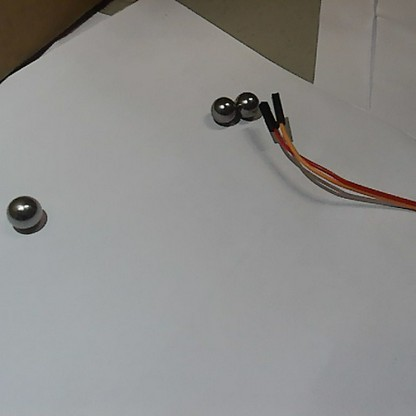ironball: (3, 190, 44, 237), (207, 93, 237, 128), (234, 88, 262, 123)
